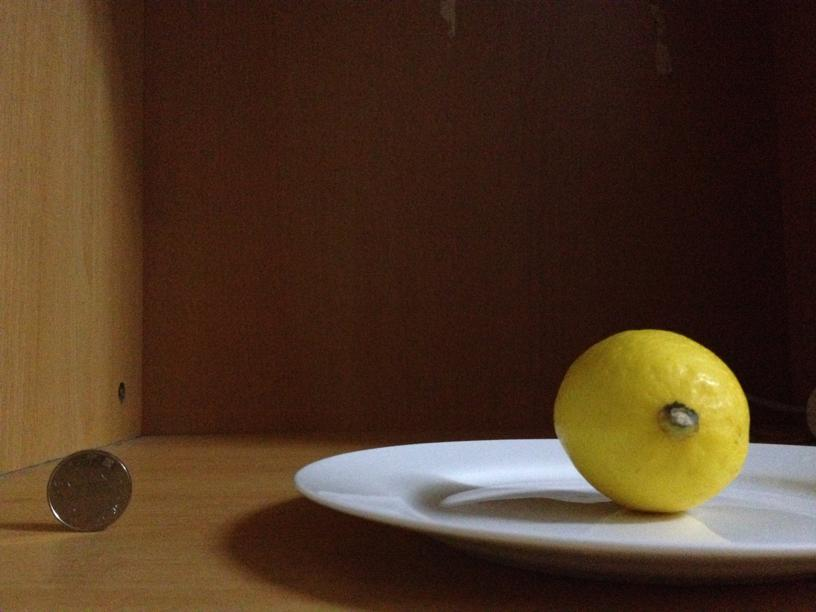coin: (42, 447, 133, 530)
lemon: (554, 326, 750, 513)
